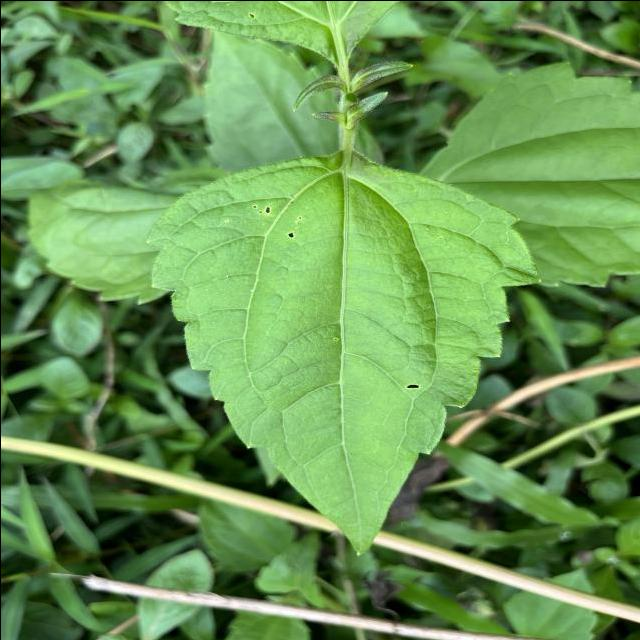Chromolaena odorata: (139, 147, 545, 560)
